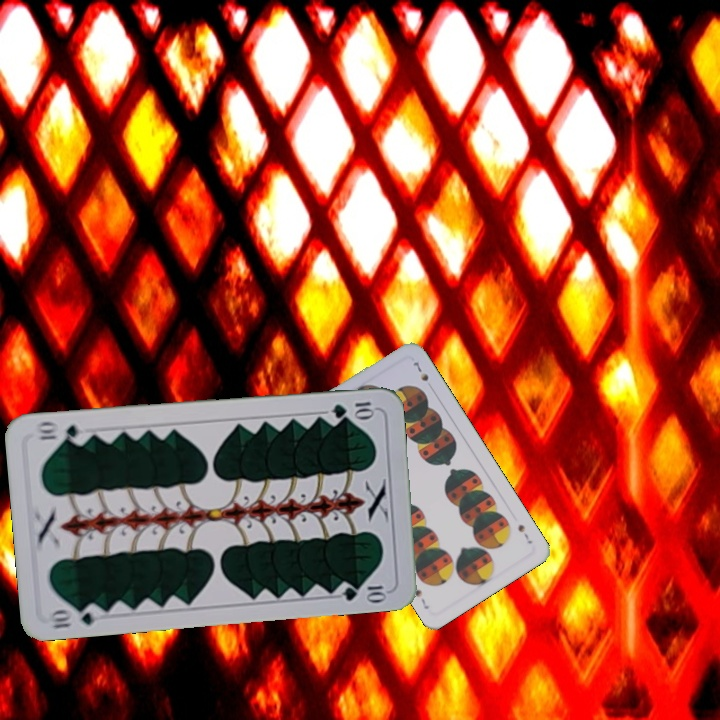G10: (45, 601, 104, 631), (328, 397, 377, 420)
S7: (514, 520, 535, 547)
